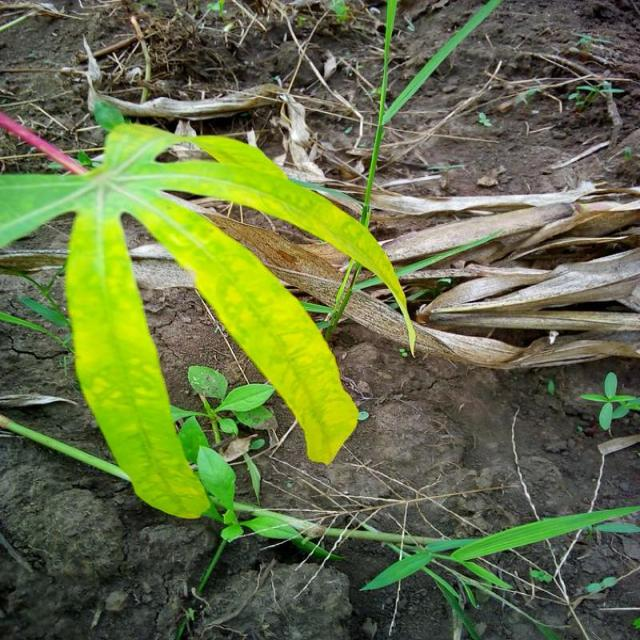cassava leaf: (2, 102, 413, 520)
